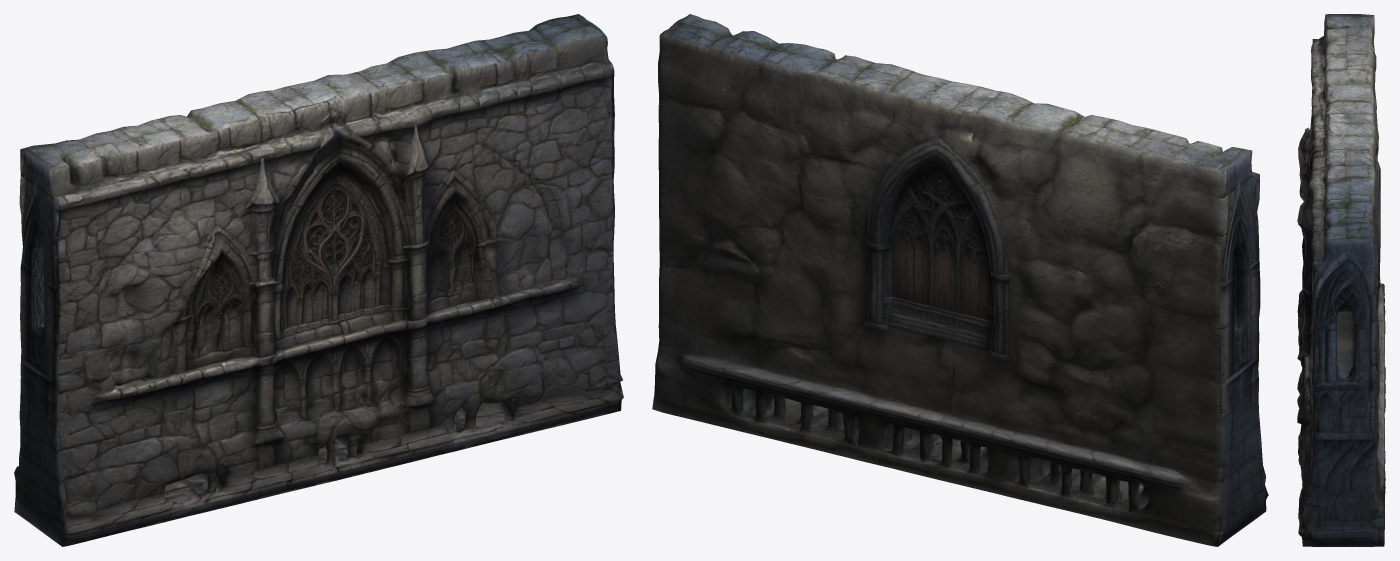
File: Meshy_AI_Heavily_Detailed_Goth_0221052419_texture.glb
3 views of the same model, side by side, from view 1: azimuth 30°, elevation 25°; view 2: azimuth 150°, elevation 25°; view 3: azimuth 270°, elevation 25° (orthographic). The views are drawn at different scales.
Bounding box in the file's own units: 2 × 1.26 × 0.3292.
1 material, 1 textured.
